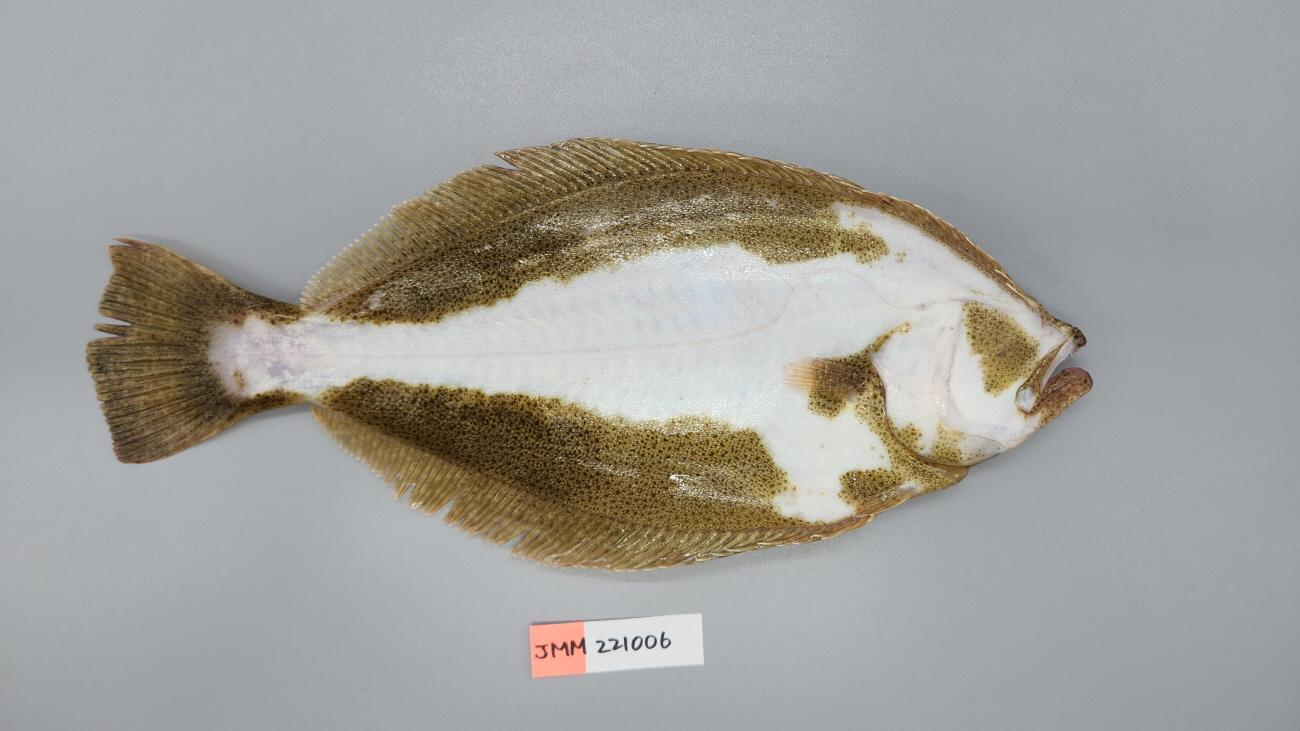POOUN: (85, 138, 1097, 578)
